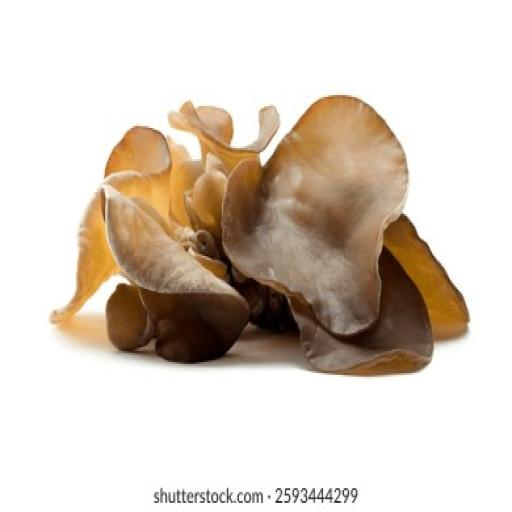Wood Ear Mushroom: (42, 55, 479, 409)
